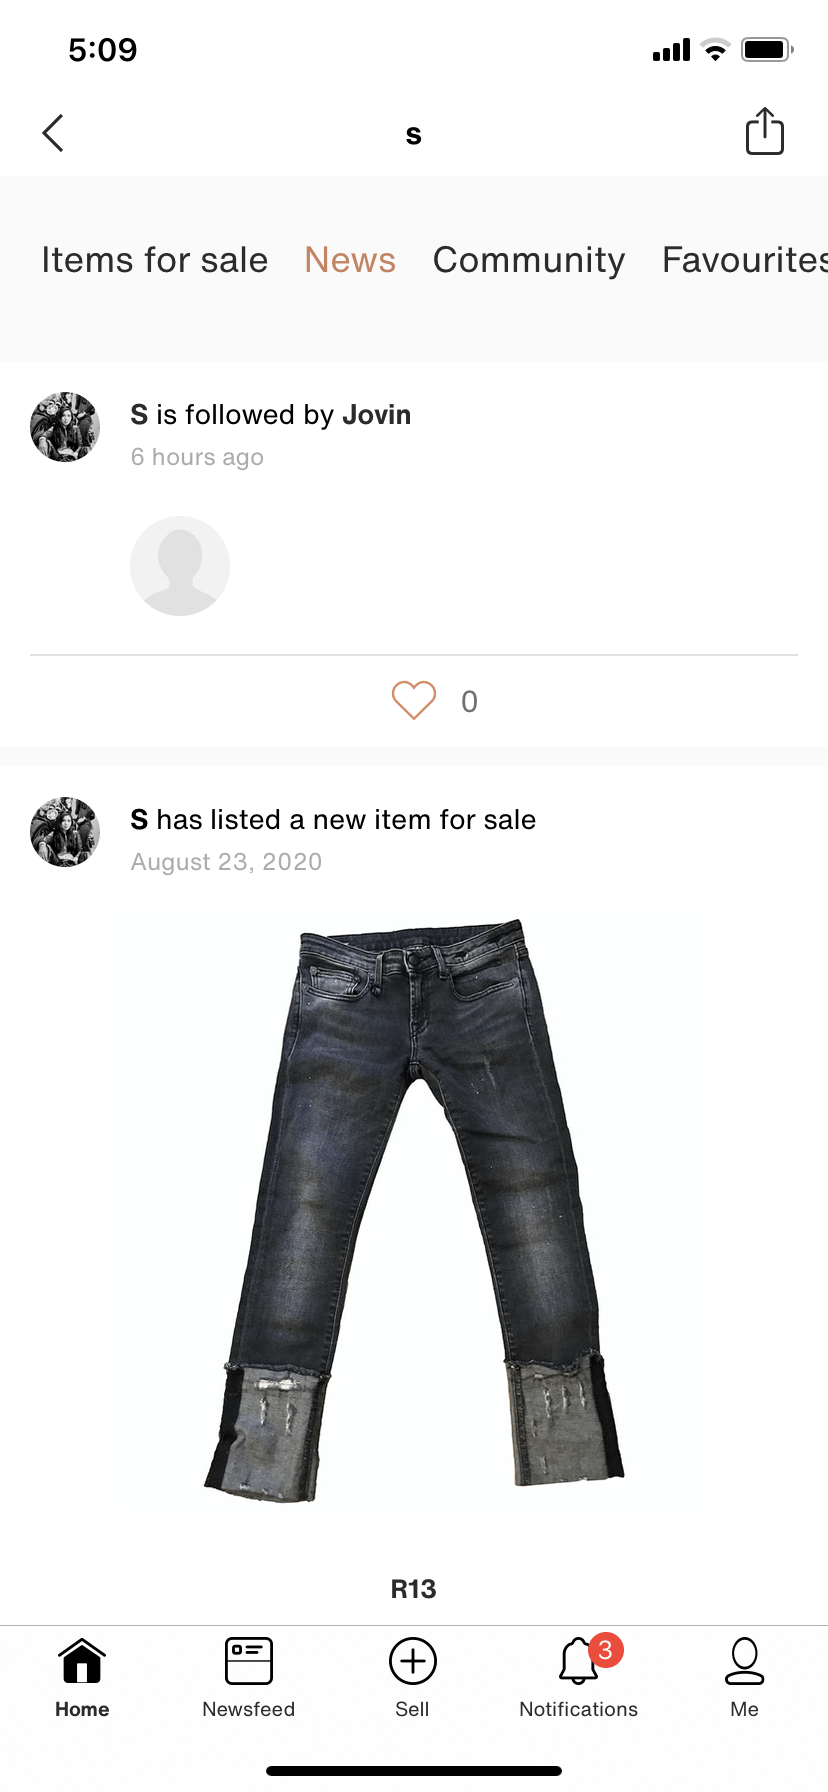Buttons: (365, 659, 512, 744), (715, 83, 805, 178), (13, 83, 99, 178)
